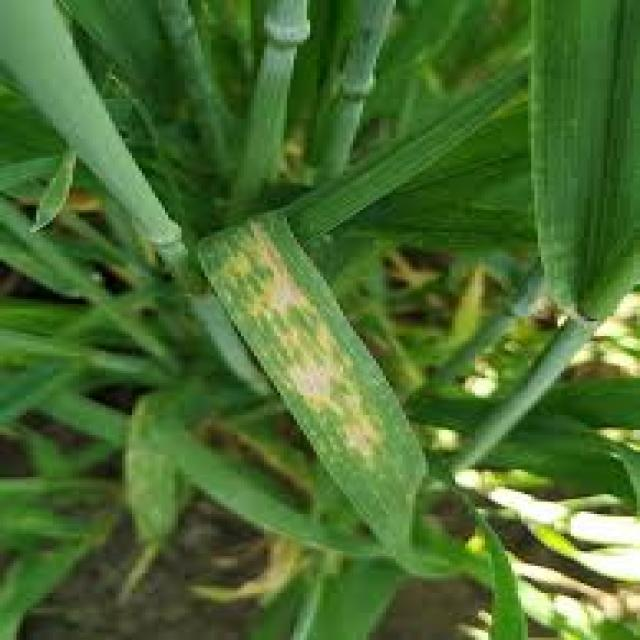Powdery_Mildew: (201, 244, 413, 473)
